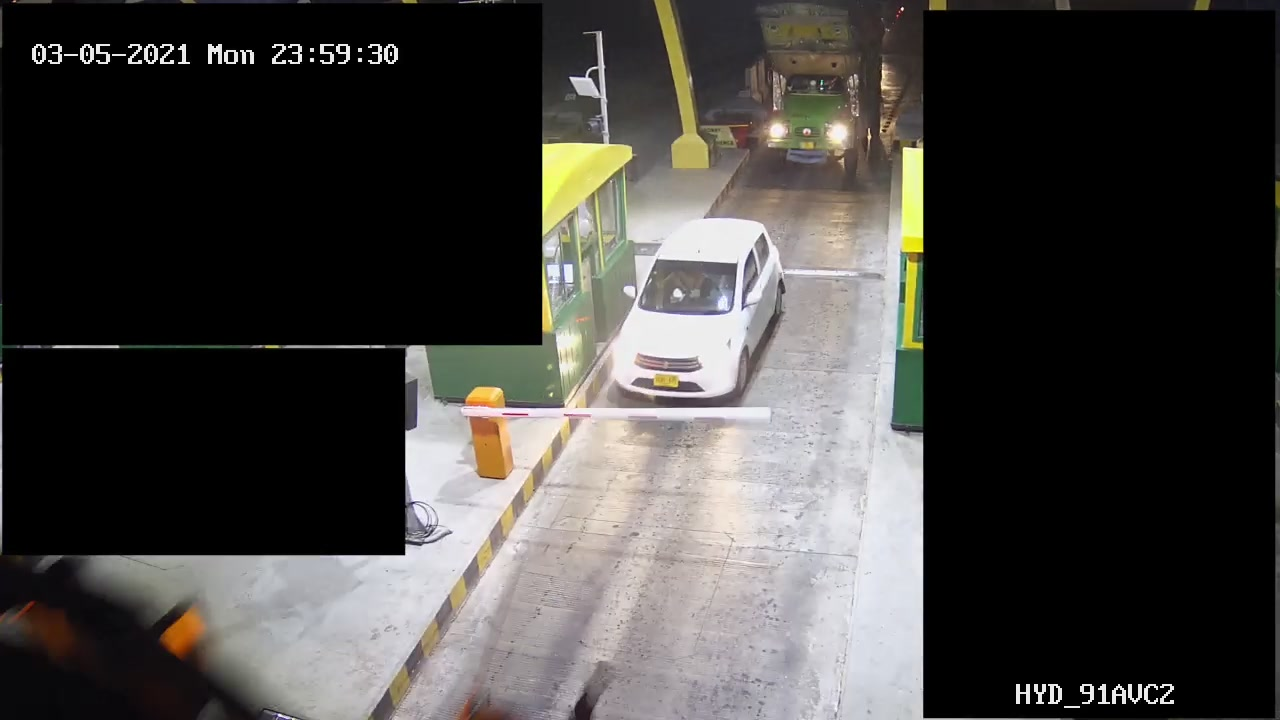F1: (599, 214, 795, 405)
